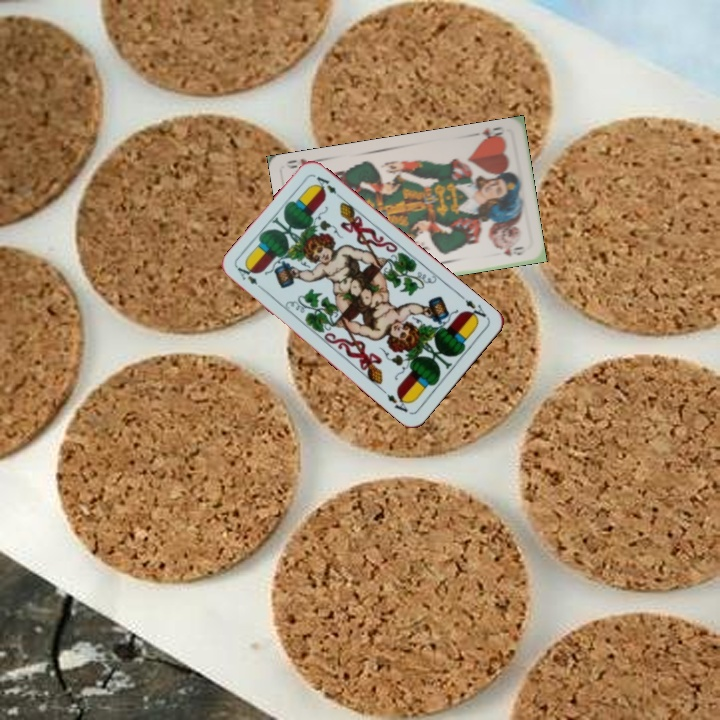EA: (456, 291, 490, 324), (233, 262, 268, 294)
HO: (469, 122, 507, 145)
